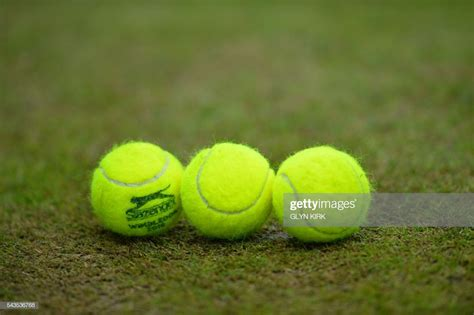tennis_ball: (180, 141, 280, 240), (272, 144, 371, 244), (90, 141, 189, 238)
